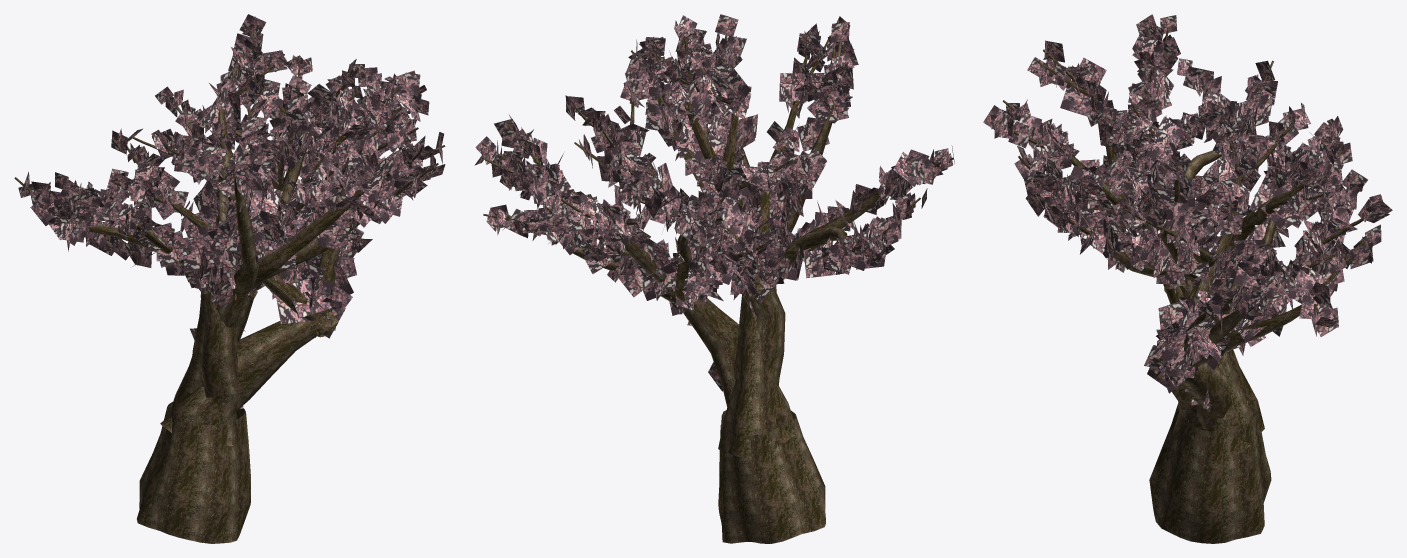
The model's file is blossom_3x_3.glb.
3 renders of one model, left to right at view 1: azimuth 30°, elevation 25°; view 2: azimuth 150°, elevation 25°; view 3: azimuth 270°, elevation 25°, orthographic. The views are drawn at different scales.
Visible parts, largest first — view 1: blossom; view 2: blossom; view 3: blossom.
Part boxes in pixels (x1,y1,x2,y2): blossom: (14,14,445,543); blossom: (474,14,954,543); blossom: (983,14,1392,543).
Size of the model in its own units: 42.57 by 44.78 by 33.85.
2 materials, 2 textured.
